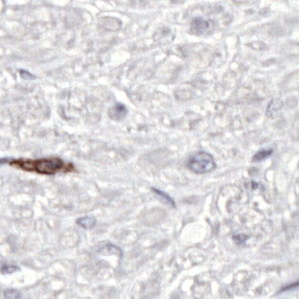Lymphocyte: (9, 155, 75, 178)
